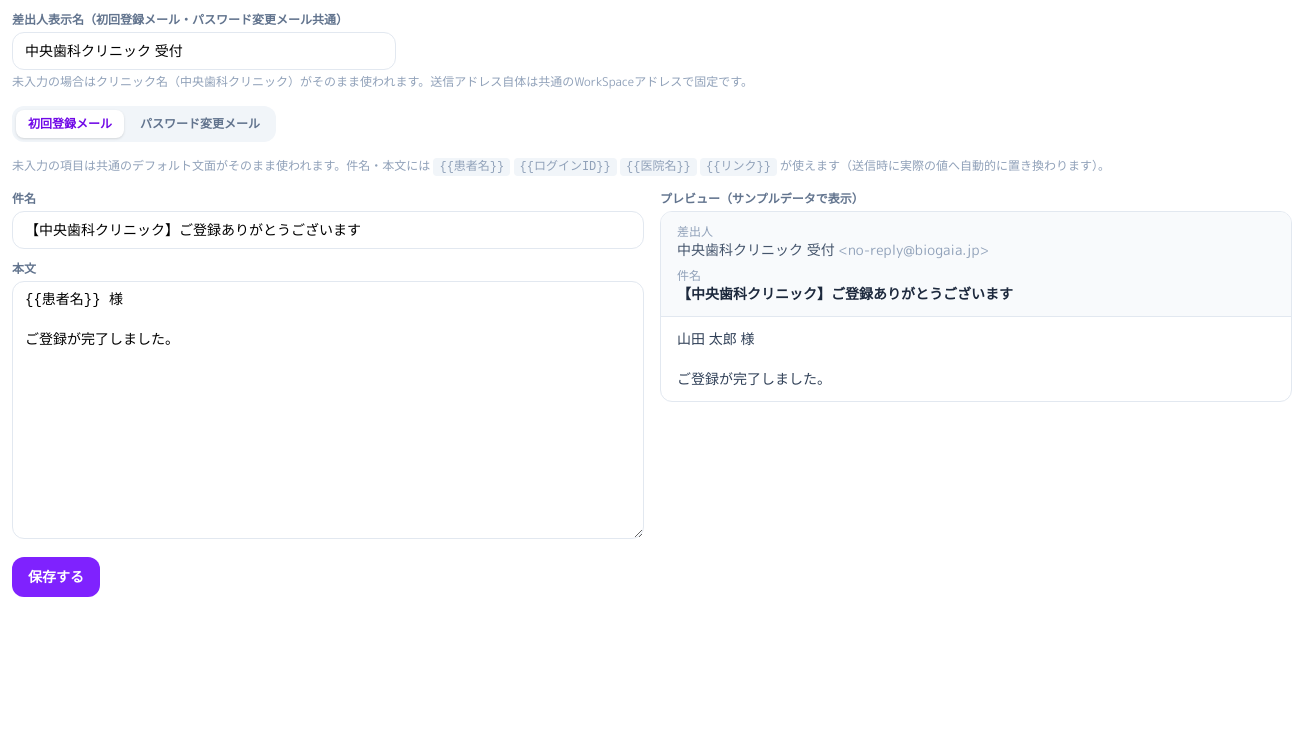
ClinicEmailTemplatesManager › 保存失敗時はAPIのエラーメッセージをトースト表示する
Check: the field showing "【中央歯科クリニック】ご登録ありがとうございます" next to "中央歯科クリニック 受付" is shown, box [12,211,644,249]
What coordinates should you click on to do the following:
click the button "保存する"
I would click on:
 (56, 577)
Its box is [12,557,100,597].
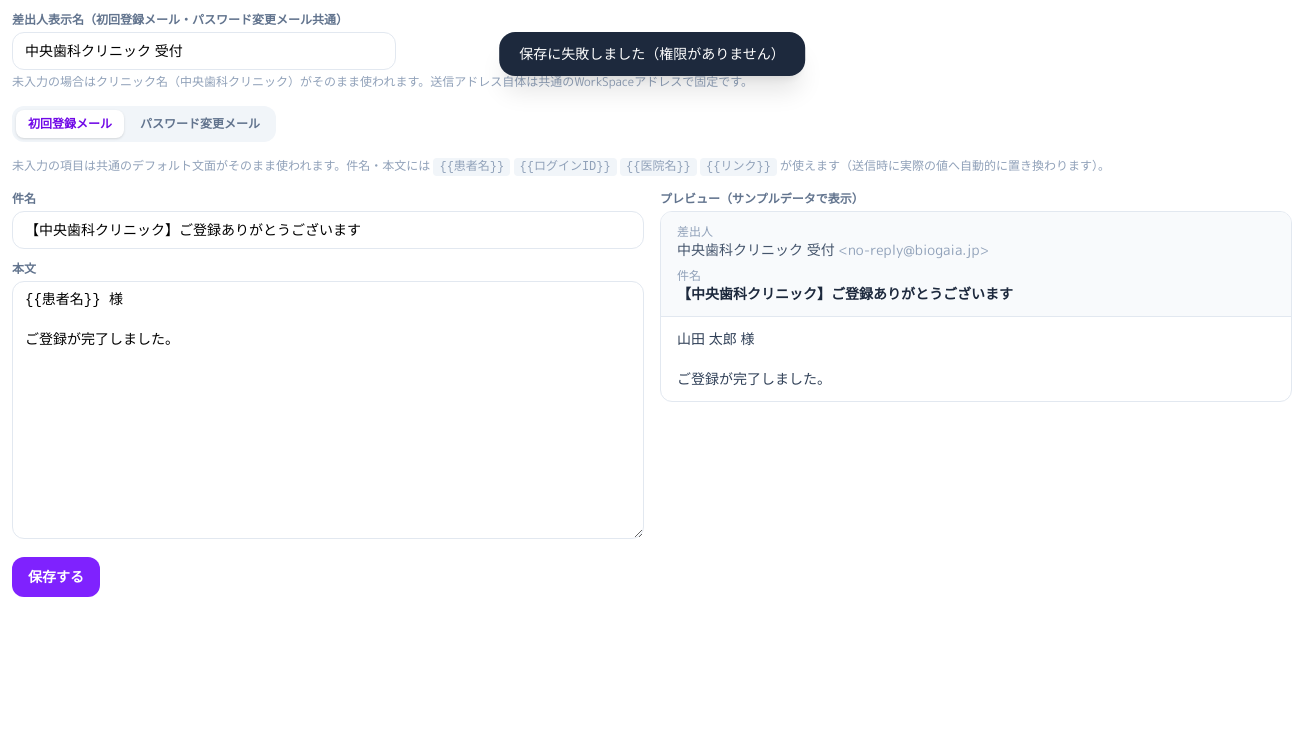
Check: the text "保存に失敗しました（権限がありません）" is shown, box [499,32,805,76]
